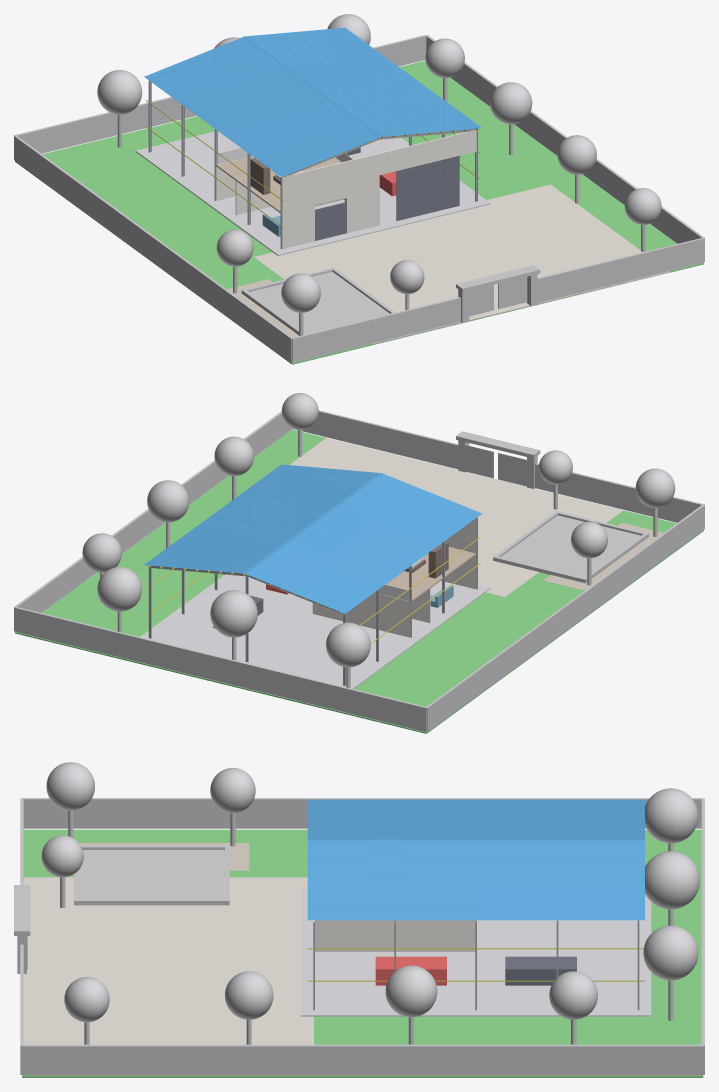
The model's file is nha_xuong_17x20.glb.
3 renders of one model, top to bottom at view 1: azimuth 30°, elevation 25°; view 2: azimuth 150°, elevation 25°; view 3: azimuth 270°, elevation 25°, orthographic. The views are drawn at different scales.
Visible parts, largest first — view 1: nha_xuong_17x20 (×12); view 2: nha_xuong_17x20 (×11); view 3: nha_xuong_17x20 (×11).
Part boxes in pixels (x1,y1,x2,y2): nha_xuong_17x20 (×12): (14, 14, 704, 364); nha_xuong_17x20 (×11): (14, 393, 704, 733); nha_xuong_17x20 (×11): (14, 762, 704, 1077).
Bounding box in the file's own units: 36.2 × 7.76 × 42.6.
